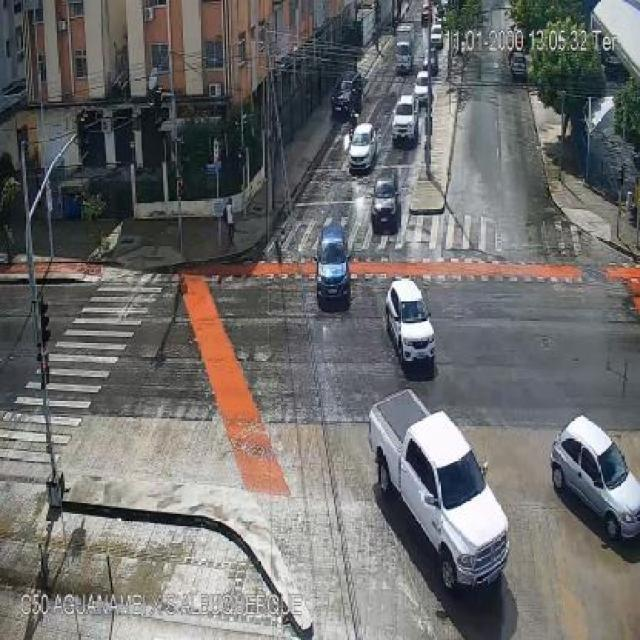Car: (367, 387, 512, 593), (550, 412, 640, 538), (384, 276, 440, 370), (316, 225, 352, 307), (370, 171, 405, 234), (342, 121, 378, 175), (390, 95, 418, 145), (412, 71, 427, 105), (430, 26, 444, 50)
Truck: (392, 20, 416, 74)
